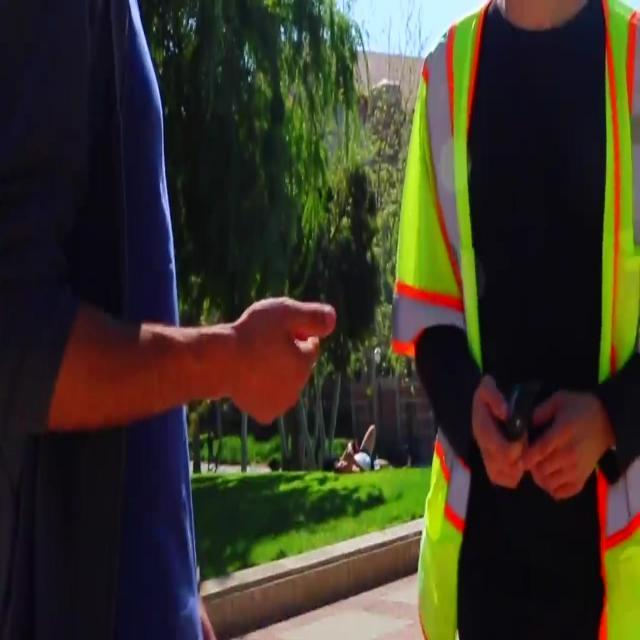reflective_jacket: (398, 1, 639, 628)
